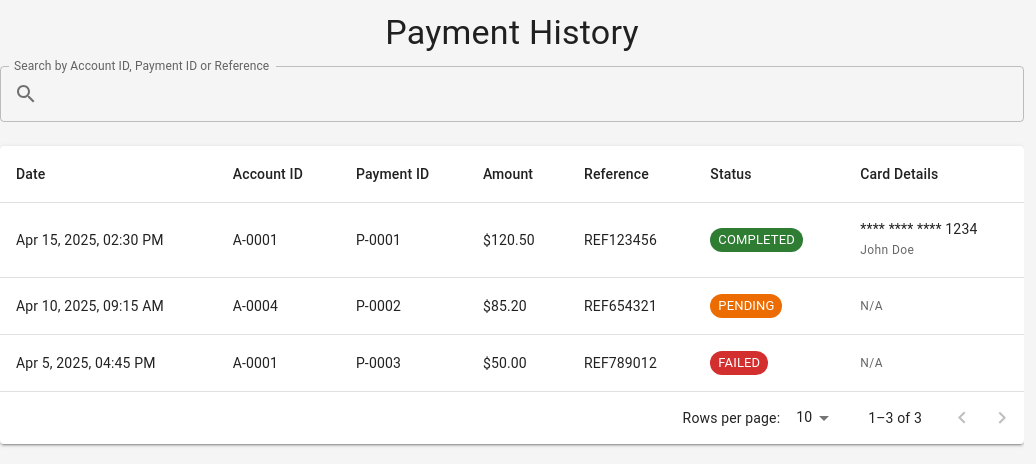
Scenario: PaymentHistoryPage › displays message when no payments match filter
Check: the text "P-0001" is shown, box top-left (340, 202), bottom-right (467, 277)
Step 1. Type "NOT_EXISTS" into the field labelled "Search by Account ID, Payment ID or Reference" → (535, 94), box top-left (46, 66), bottom-right (1024, 122)
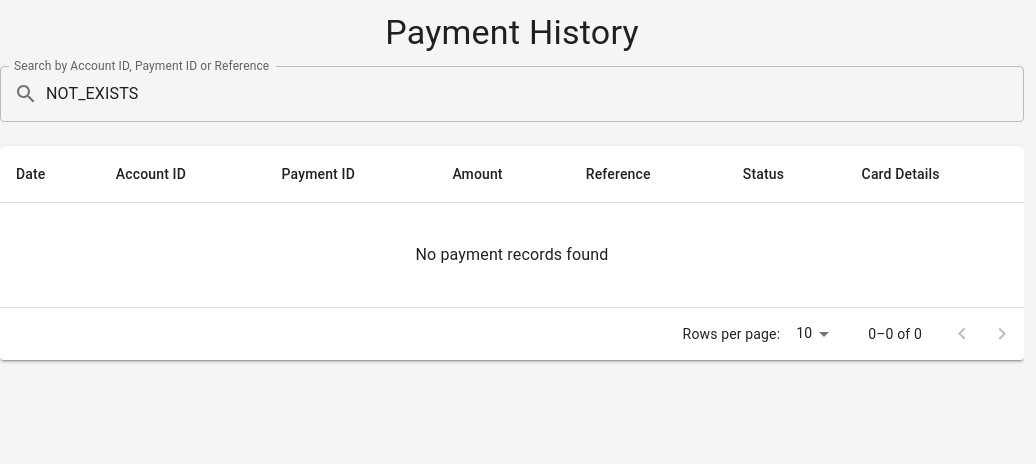
Check: the text "No payment records found" is shown, box top-left (416, 245), bottom-right (608, 264)
